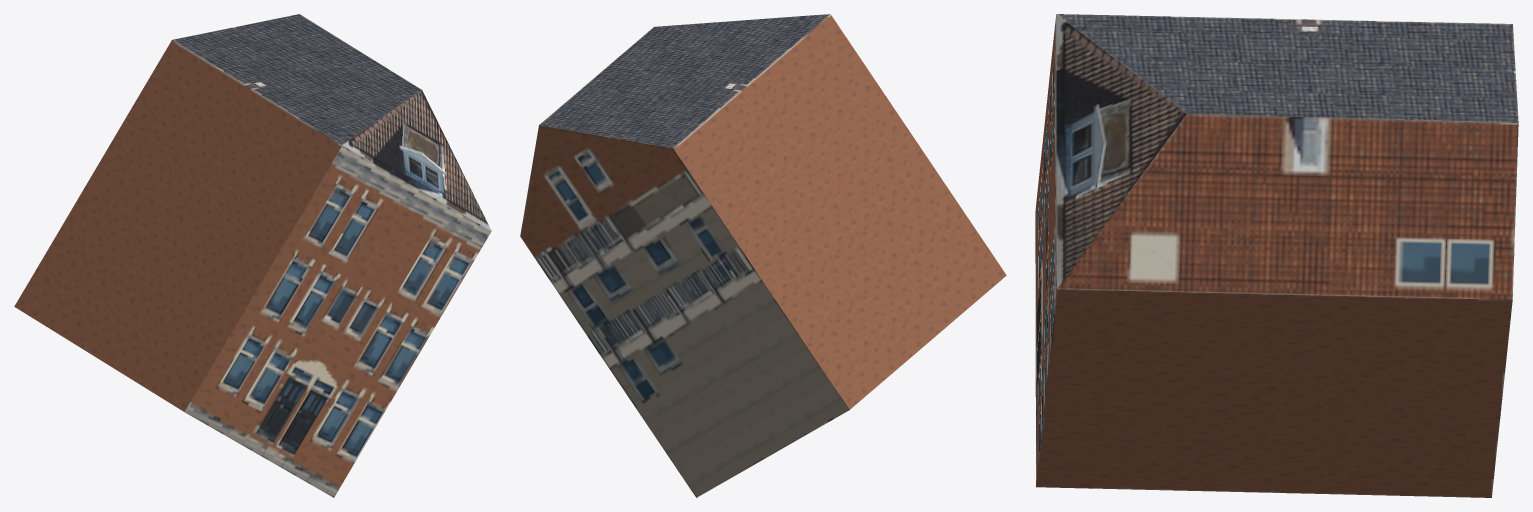
3 views of the same model, side by side, from view 1: azimuth 30°, elevation 25°; view 2: azimuth 150°, elevation 25°; view 3: azimuth 270°, elevation 25° (orthographic). The views are drawn at different scales.
Parts seen in each view (by area): view 1: BAG_0599100000760396 (×2); view 2: BAG_0599100000760396 (×2); view 3: BAG_0599100000760396 (×3).
Part boxes in pixels (<box>): BAG_0599100000760396 (×2): <box>14,14,491,497</box>; BAG_0599100000760396 (×2): <box>520,14,1006,497</box>; BAG_0599100000760396 (×3): <box>1035,14,1518,497</box>.
Bounding box in the file's own units: 13.51 × 14.18 × 12.42.
1 material, 1 textured.
